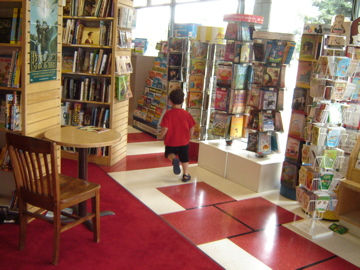person: (159, 89, 197, 183)
